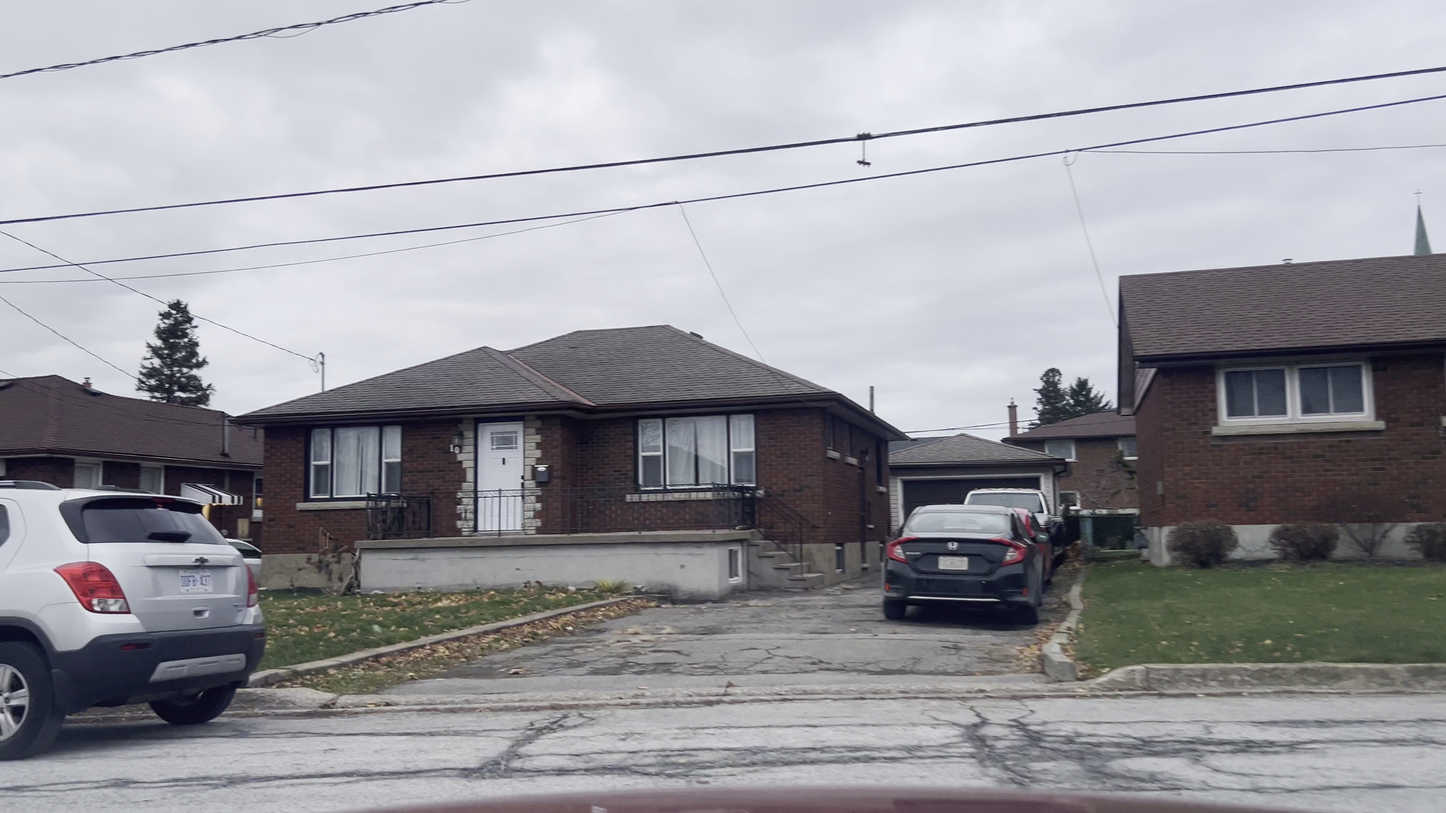cracks: (921, 699, 1293, 796), (398, 749, 973, 786), (49, 774, 394, 803), (502, 705, 577, 748)
